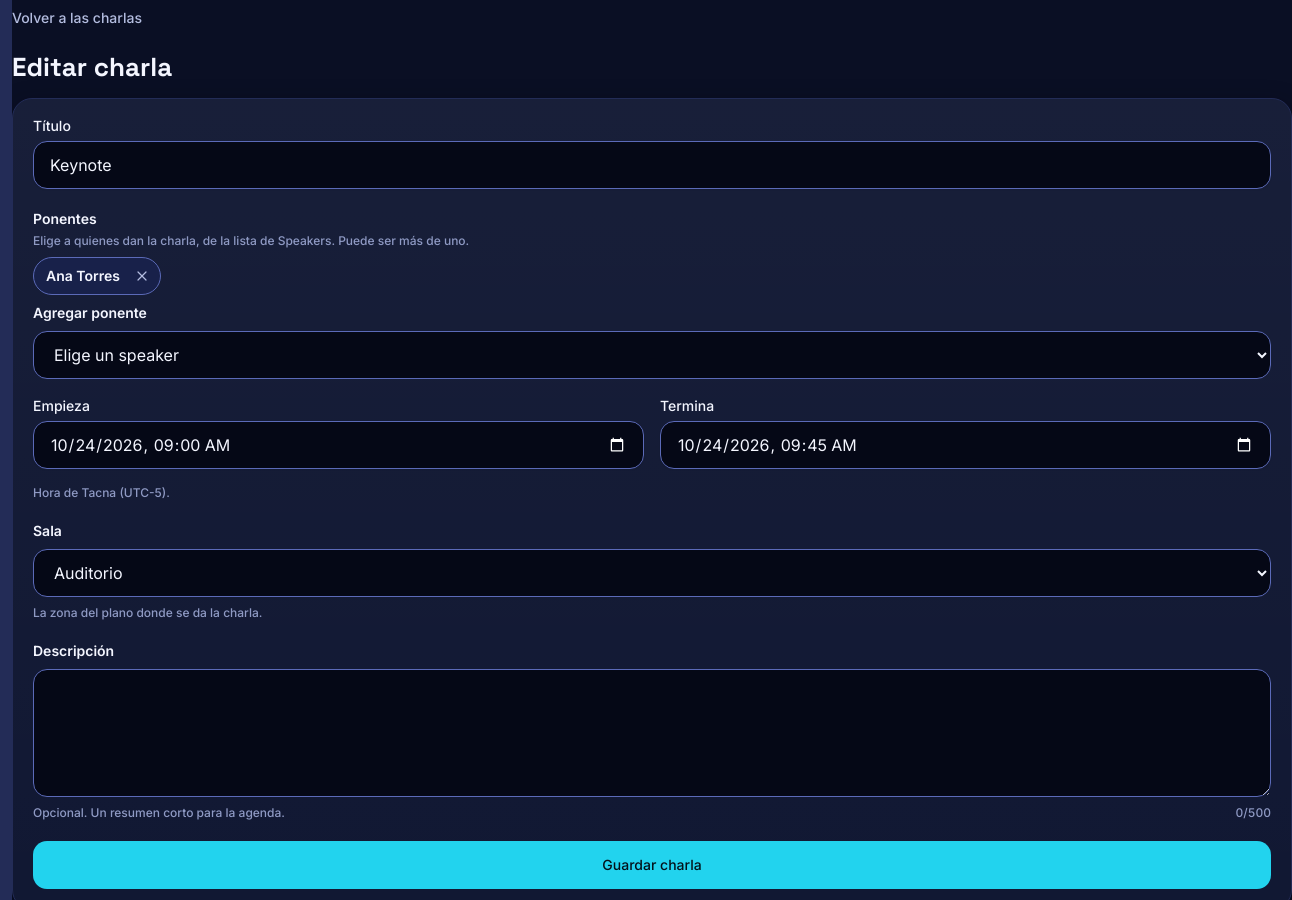
Test: TalkForm › shows an error with no field above the form, and survives a thrown action
The image size is (1292, 900).
Click the button "Guardar charla" at (652, 865), box [33,841,1271,889]
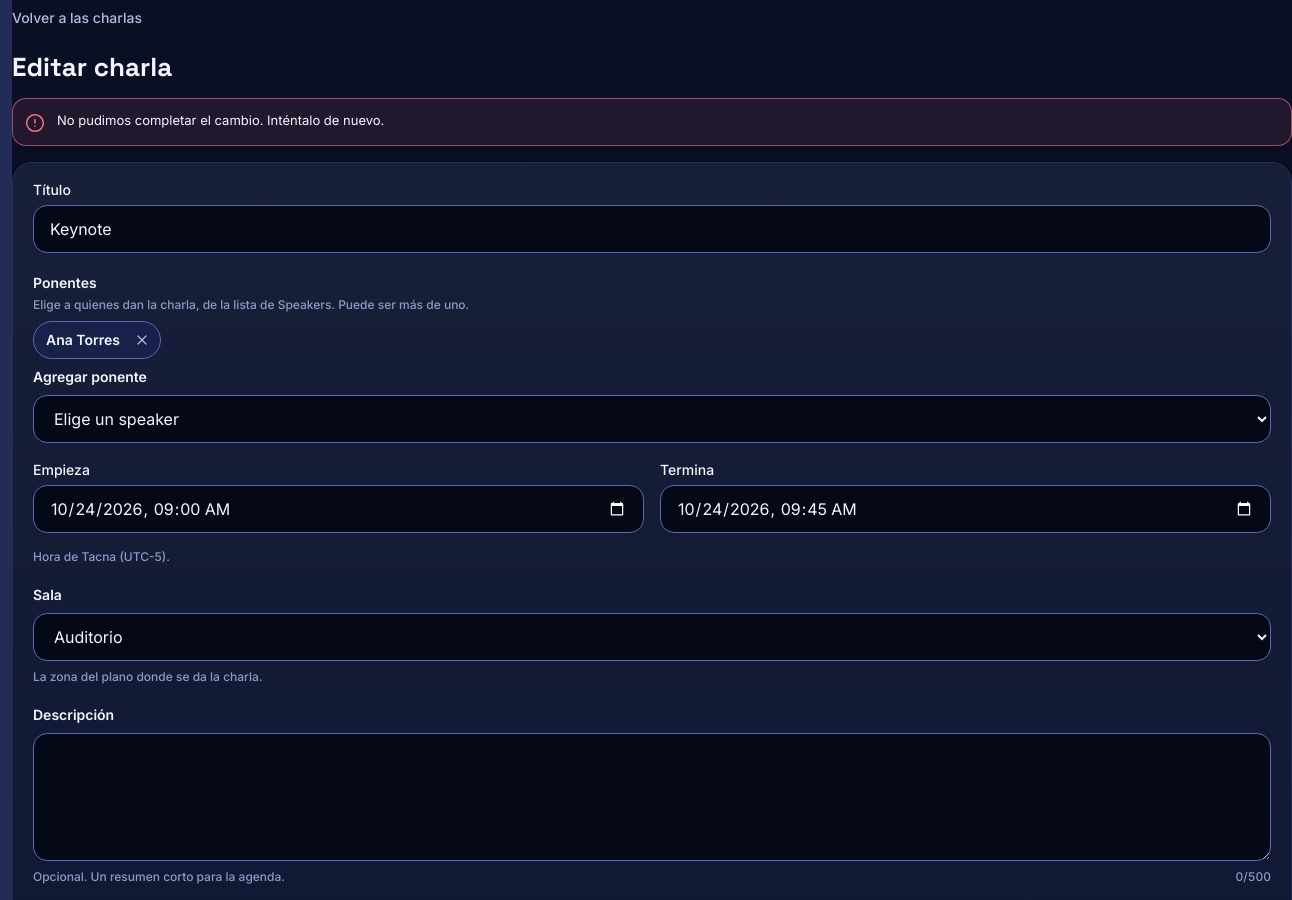
Result: the message reads "No pudimos completar el cambio. Inténtalo de nuevo." at [57,112,384,128]
